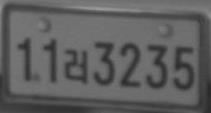1: (14, 37, 36, 81), (40, 39, 62, 83)
2: (118, 42, 142, 88)
3: (146, 44, 168, 88), (93, 41, 114, 85)
5: (172, 45, 195, 91)
러: (64, 48, 89, 83)
